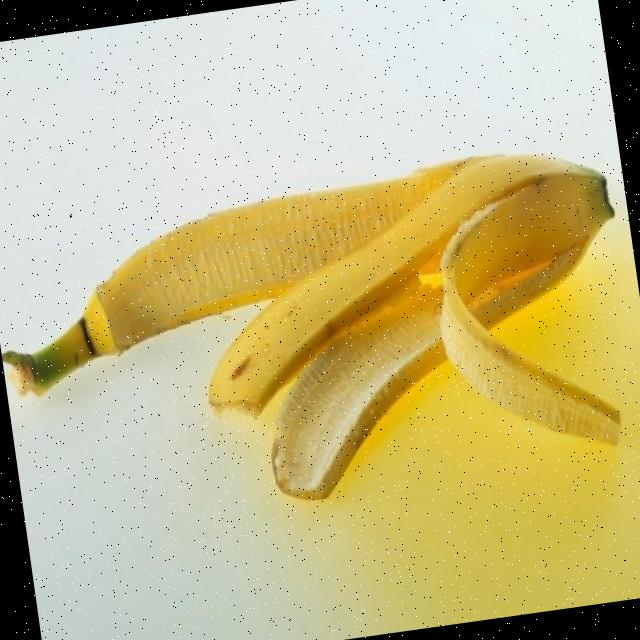banana-peel: (0, 134, 640, 540), (177, 137, 634, 424), (0, 154, 495, 401)
